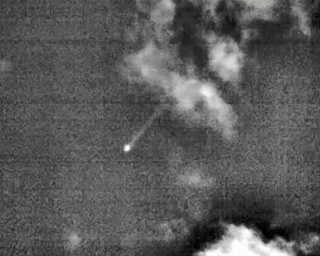AIRPLANE: (113, 77, 189, 154)
